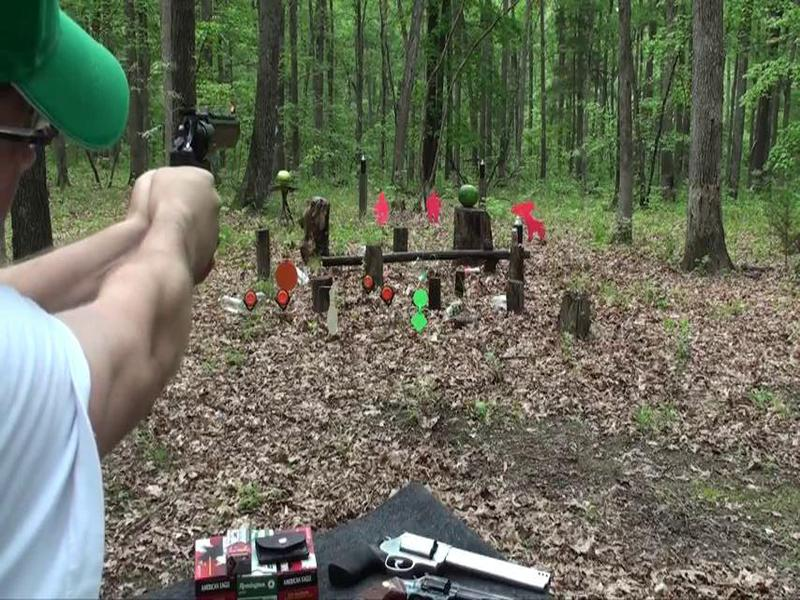Revolver: (150, 100, 253, 196)
